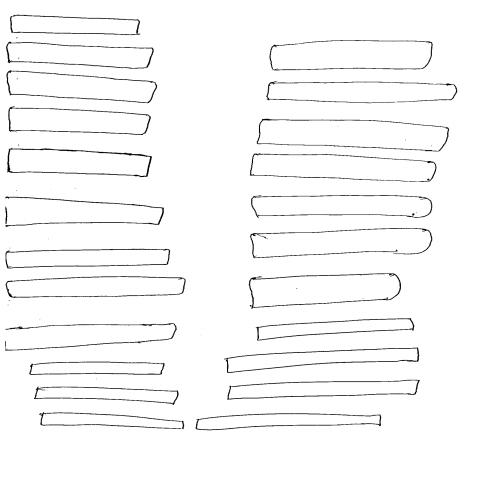Textbox: (257, 118, 448, 152), (250, 226, 433, 259), (249, 152, 437, 183), (6, 68, 156, 104), (268, 39, 433, 71), (225, 347, 420, 374), (250, 194, 434, 219), (266, 80, 456, 104), (5, 40, 154, 70), (7, 105, 150, 136), (6, 147, 151, 177), (225, 378, 419, 400), (255, 317, 415, 342), (4, 276, 185, 298), (4, 248, 170, 268), (194, 413, 382, 430), (8, 14, 140, 36), (32, 386, 179, 404), (39, 412, 184, 430), (27, 361, 164, 376)
